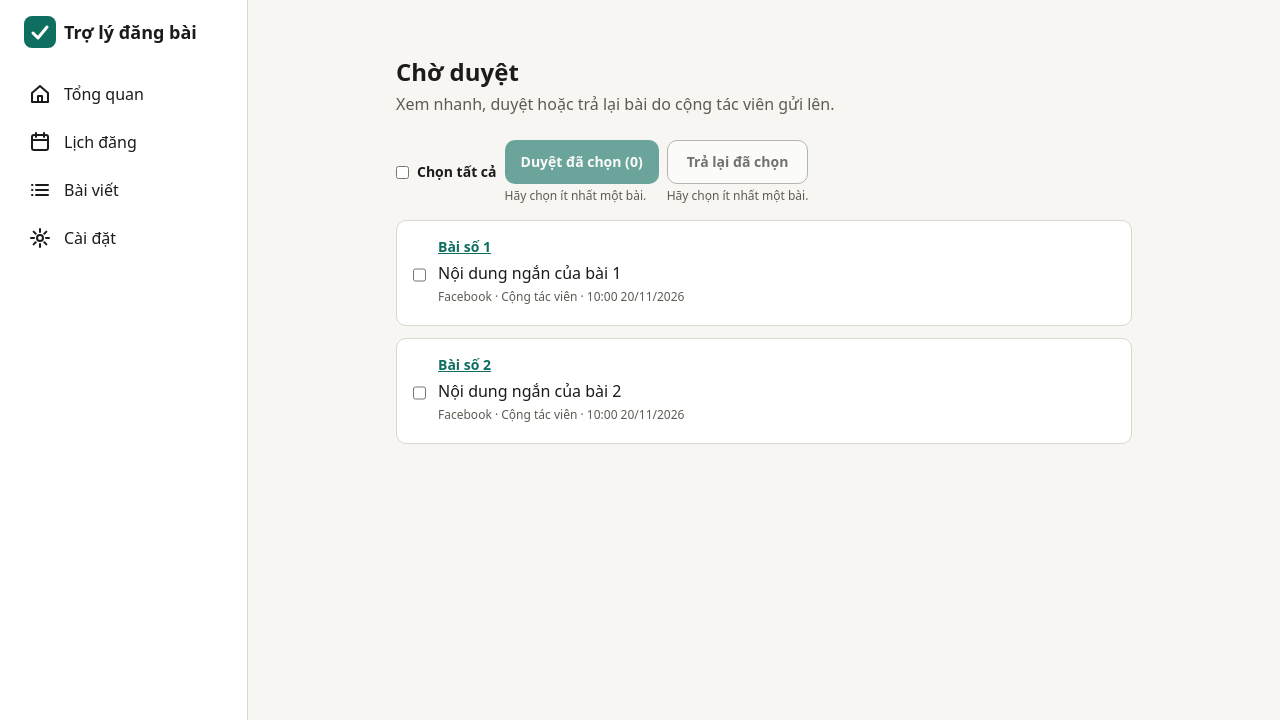
Test case: PendingPage › chọn tất cả → duyệt hàng loạt; kết quả nói rõ bài chưa duyệt được kèm cách xử lý (mở bài)
Expected: the link "Bài số 1" is shown, [438, 237, 491, 256]
Click the checkbox labelled "Chọn tất cả": click(402, 172) [396, 166, 409, 178]
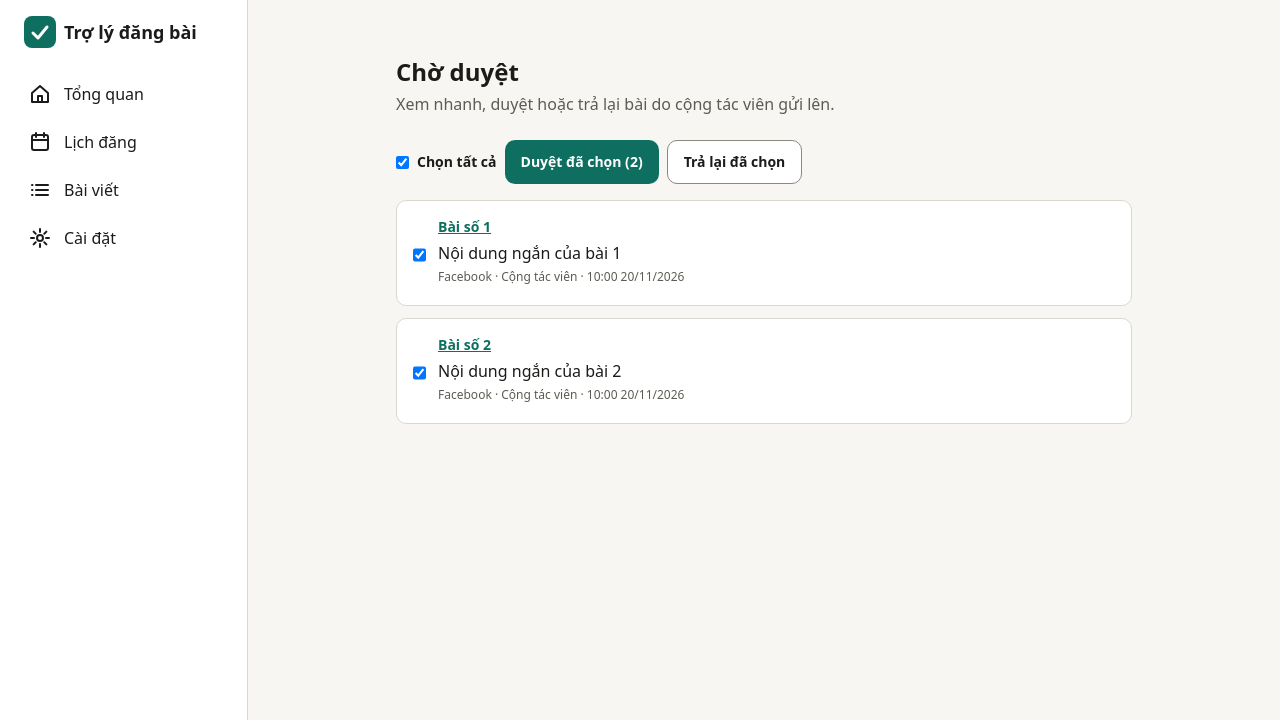
Click the button "Duyệt đã chọn (2)": click(582, 162) [504, 140, 659, 184]
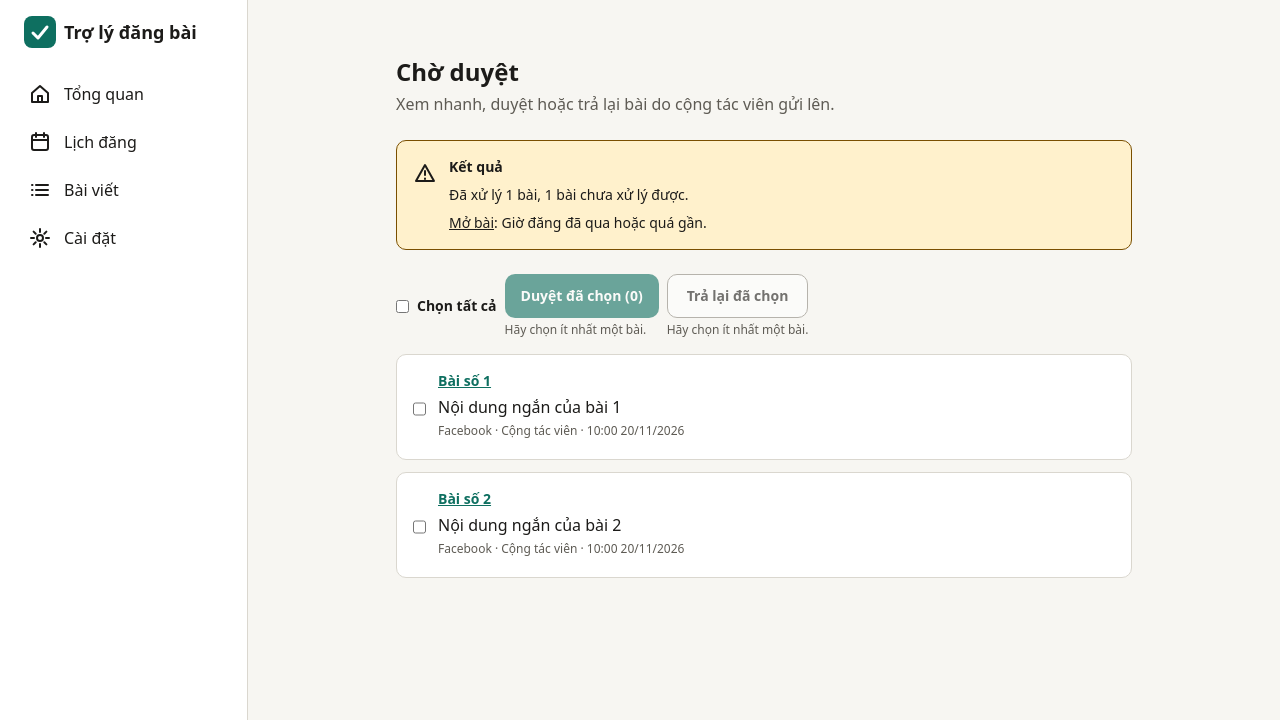
Expected: the text "Đã xử lý 1 bài, 1 bài chưa xử lý được." is shown, [449, 185, 688, 204]
Expected: the list item "Mở bài : Giờ đăng đã qua hoặc quá gần." is shown, [449, 213, 707, 232]
